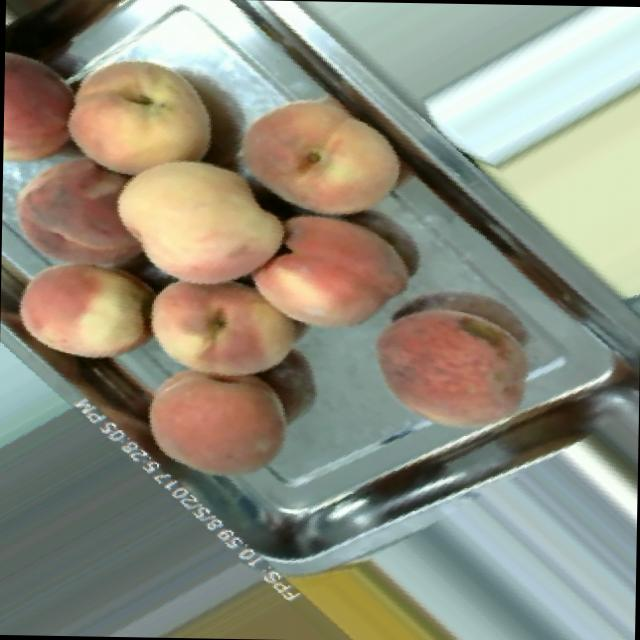Fruit: (355, 284, 553, 456), (96, 139, 300, 292), (222, 71, 422, 224), (42, 28, 234, 174), (236, 208, 427, 348), (256, 548, 510, 640), (130, 366, 305, 490), (1, 254, 172, 379), (134, 268, 313, 384), (124, 565, 381, 640)
